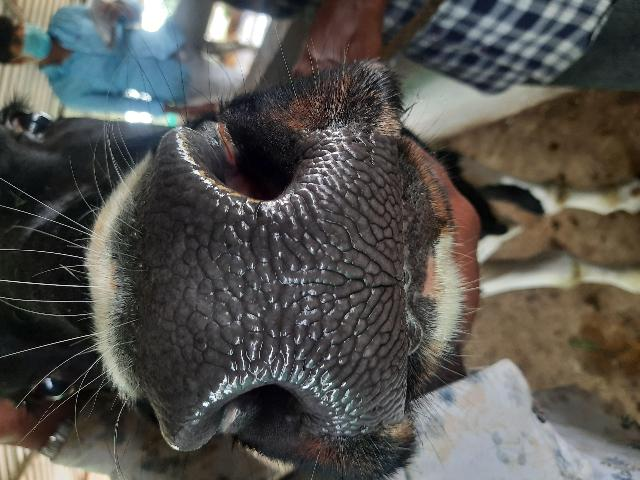Muzzle: (141, 193, 417, 394)
